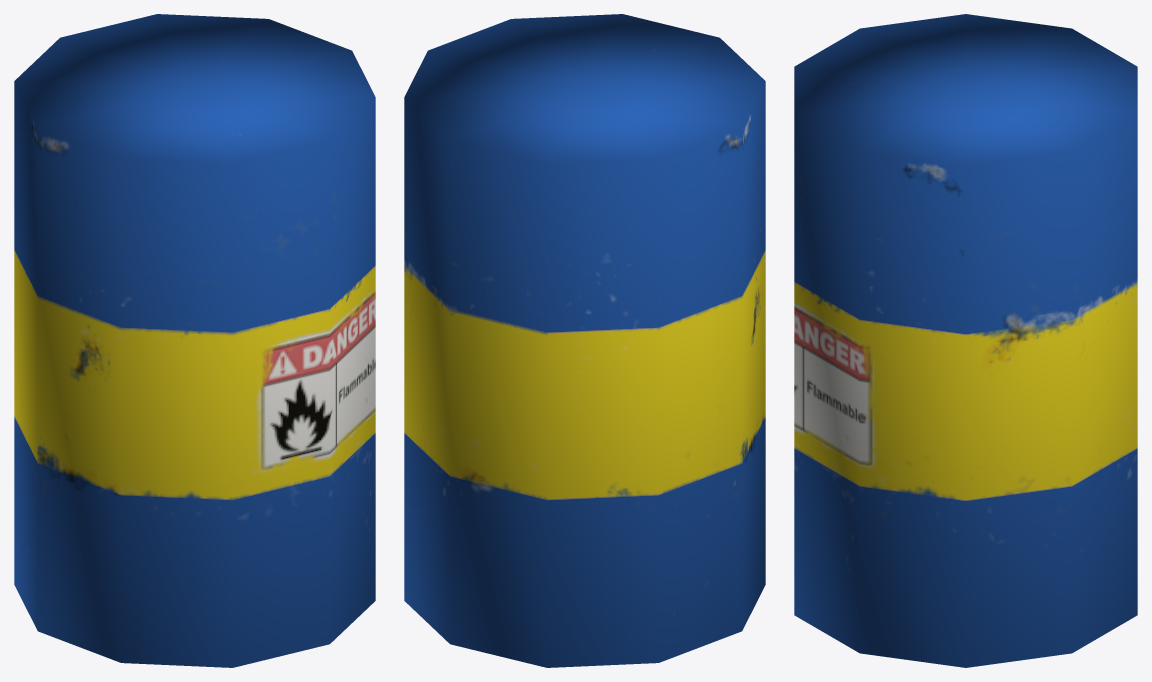
Rendered from barrelMetal_L.fbx.
3 views of the same model, side by side, from view 1: azimuth 30°, elevation 25°; view 2: azimuth 150°, elevation 25°; view 3: azimuth 270°, elevation 25° (orthographic).
Visible parts, largest first — view 1: barrelMetal_L; view 2: barrelMetal_L; view 3: barrelMetal_L.
Boxes of the visible parts, x1,y1,x2,y2 form: barrelMetal_L: (14,14,375,667); barrelMetal_L: (404,14,765,667); barrelMetal_L: (794,14,1137,667).
Size of the model in its own units: 0.3862 by 0.5914 by 0.3673.
Materials: 1 (1 with a texture image).
